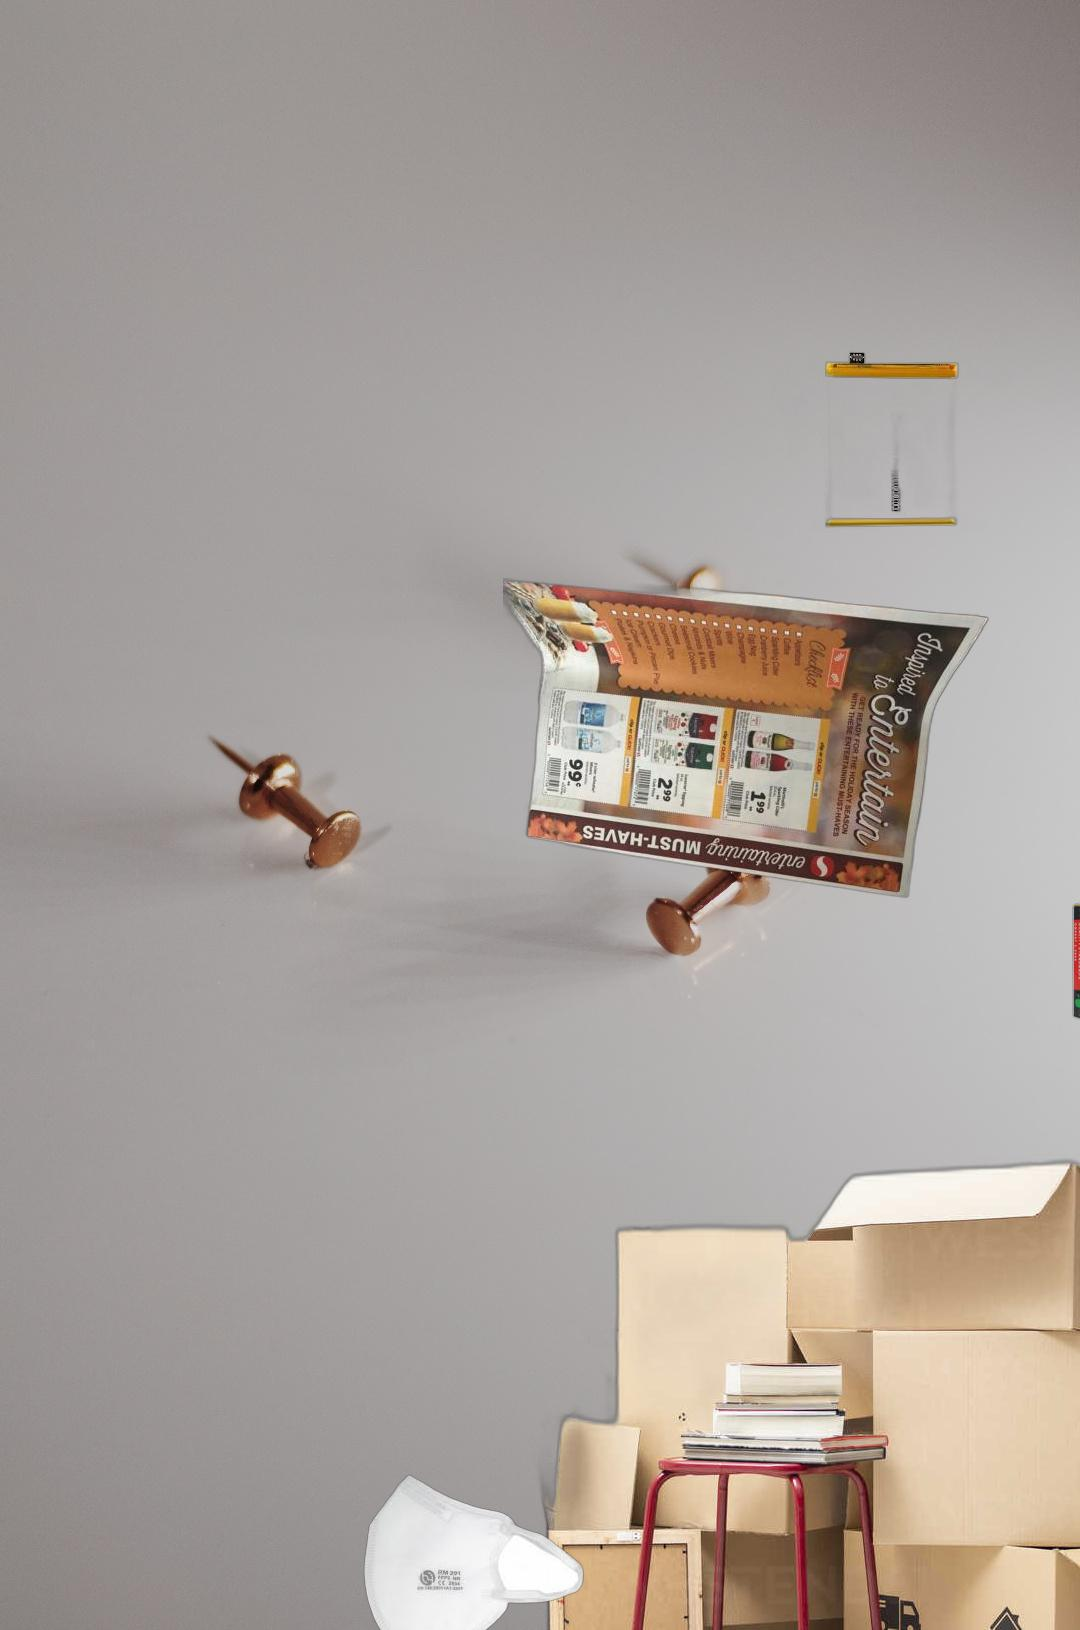battery: (762, 340, 1012, 532), (1070, 896, 1080, 1022)
paper: (503, 578, 993, 901)
trash: (360, 1472, 586, 1630)
trashbox-cardboard: (528, 1112, 1080, 1630)
